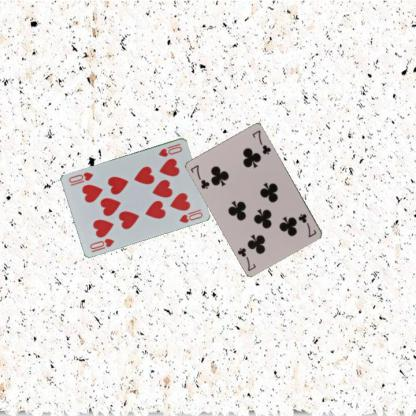10h: (156, 141, 183, 158), (87, 236, 116, 250)
7c: (188, 162, 211, 190), (296, 211, 318, 239)
